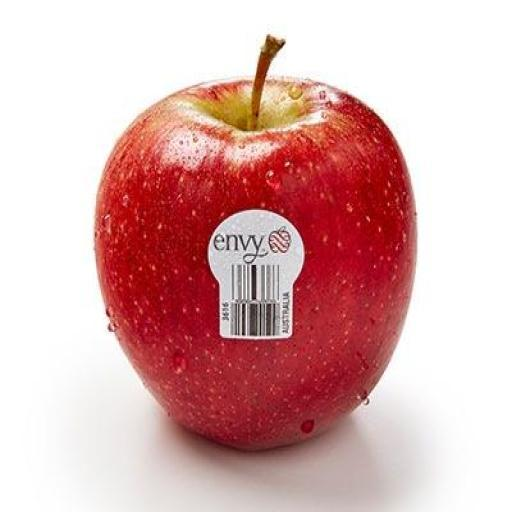apple: (95, 39, 415, 449)
